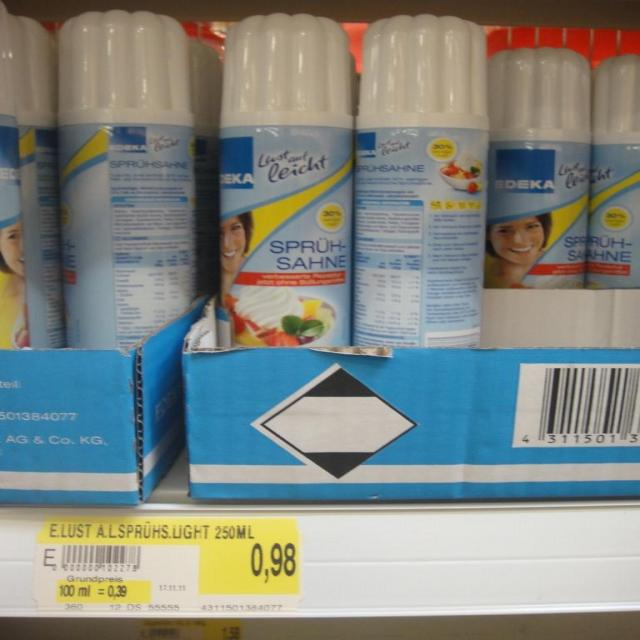cream: (58, 10, 194, 349), (352, 14, 488, 347), (218, 14, 352, 347), (484, 48, 590, 289), (8, 16, 64, 348), (586, 54, 639, 289), (189, 41, 222, 295)
